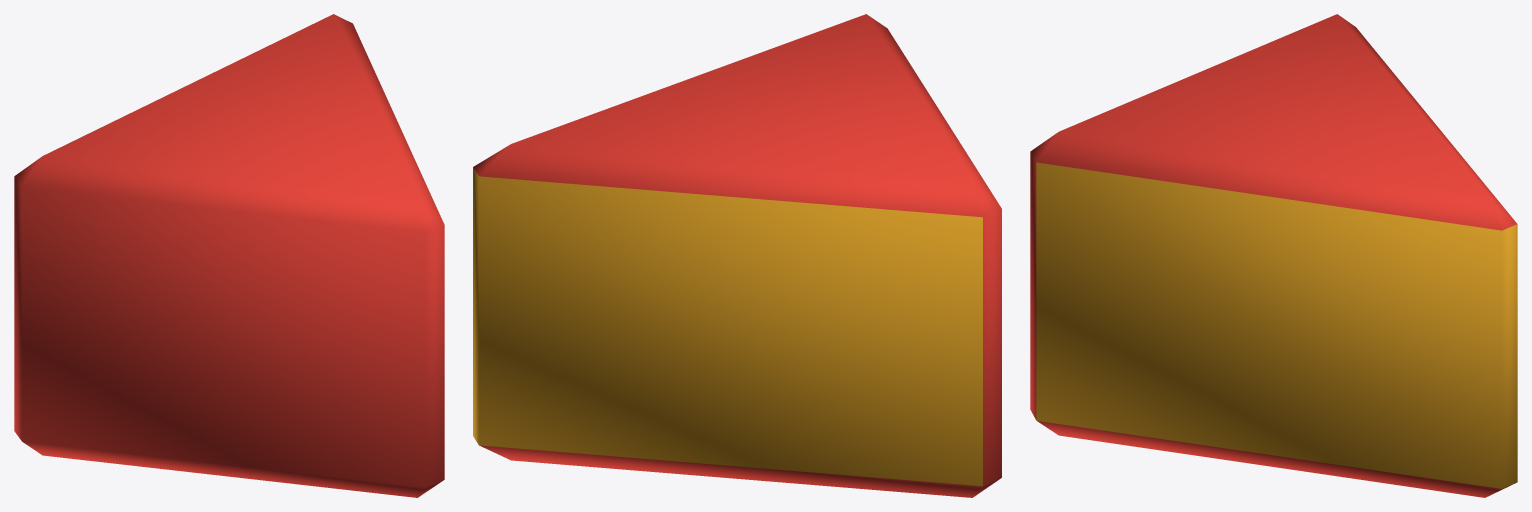
Rendered from Cheese.glb.
3 renders of one model, left to right at view 1: azimuth 30°, elevation 25°; view 2: azimuth 150°, elevation 25°; view 3: azimuth 270°, elevation 25°, orthographic. The views are drawn at different scales.
Parts seen in each view (by area): view 1: Cheese; view 2: Cheese; view 3: Cheese.
Part boxes in pixels (x1,y1,x2,y2): Cheese: [14, 14, 444, 497]; Cheese: [473, 14, 1001, 497]; Cheese: [1030, 14, 1517, 497].
Bounding box in the file's own units: 2.91 × 2 × 2.91.
